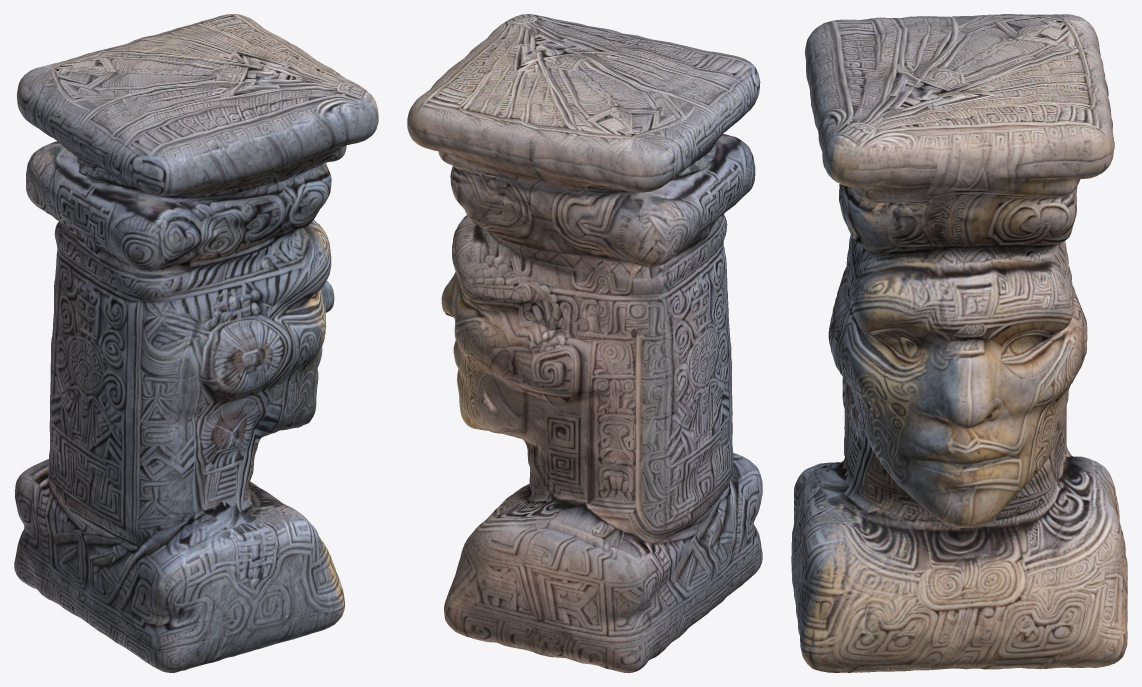
The model's file is aztec_pillar.glb.
3 renders of one model, left to right at view 1: azimuth 30°, elevation 25°; view 2: azimuth 150°, elevation 25°; view 3: azimuth 270°, elevation 25°, orthographic. The views are drawn at different scales.
Parts seen in each view (by area): view 1: Mesh_0_Material_0_0; view 2: Mesh_0_Material_0_0; view 3: Mesh_0_Material_0_0.
Part boxes in pixels (<box>): Mesh_0_Material_0_0: <box>14,14,378,672</box>; Mesh_0_Material_0_0: <box>407,14,762,672</box>; Mesh_0_Material_0_0: <box>791,14,1127,672</box>.
Bounding box in the file's own units: 0.6188 × 1.2 × 0.6162.
Materials: 1 (1 with a texture image).
